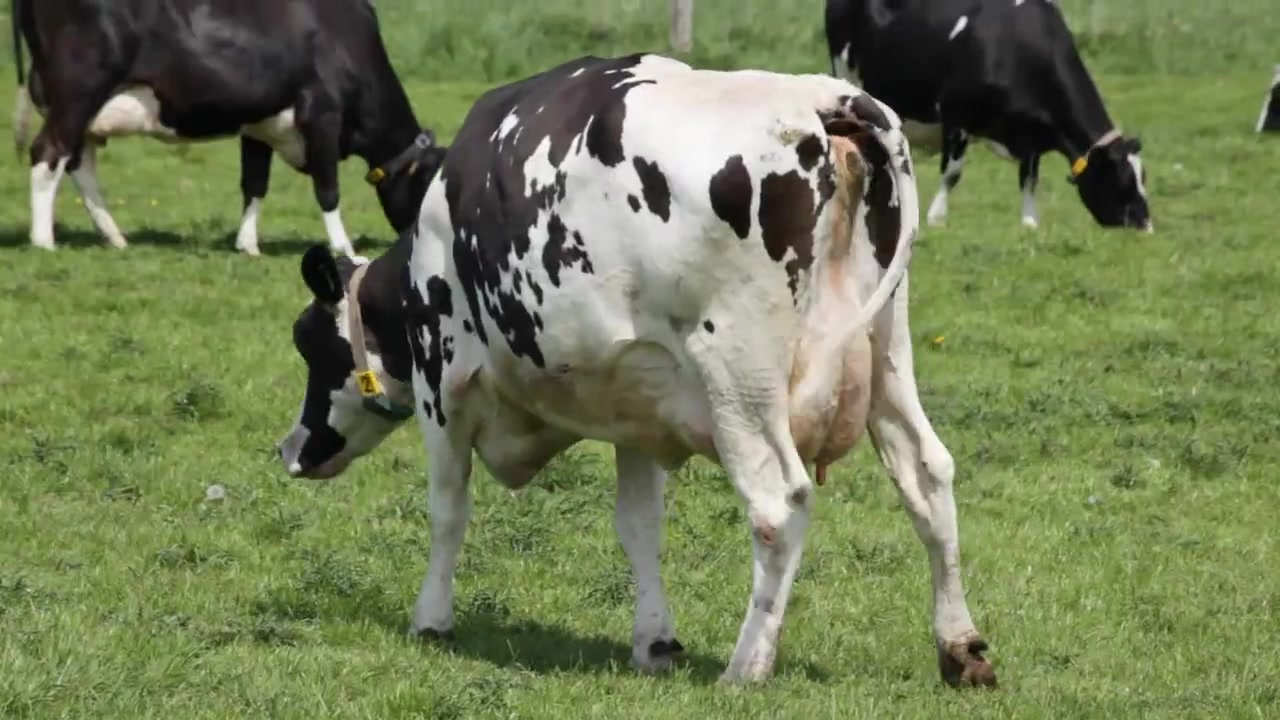cow: (277, 51, 1002, 703)
